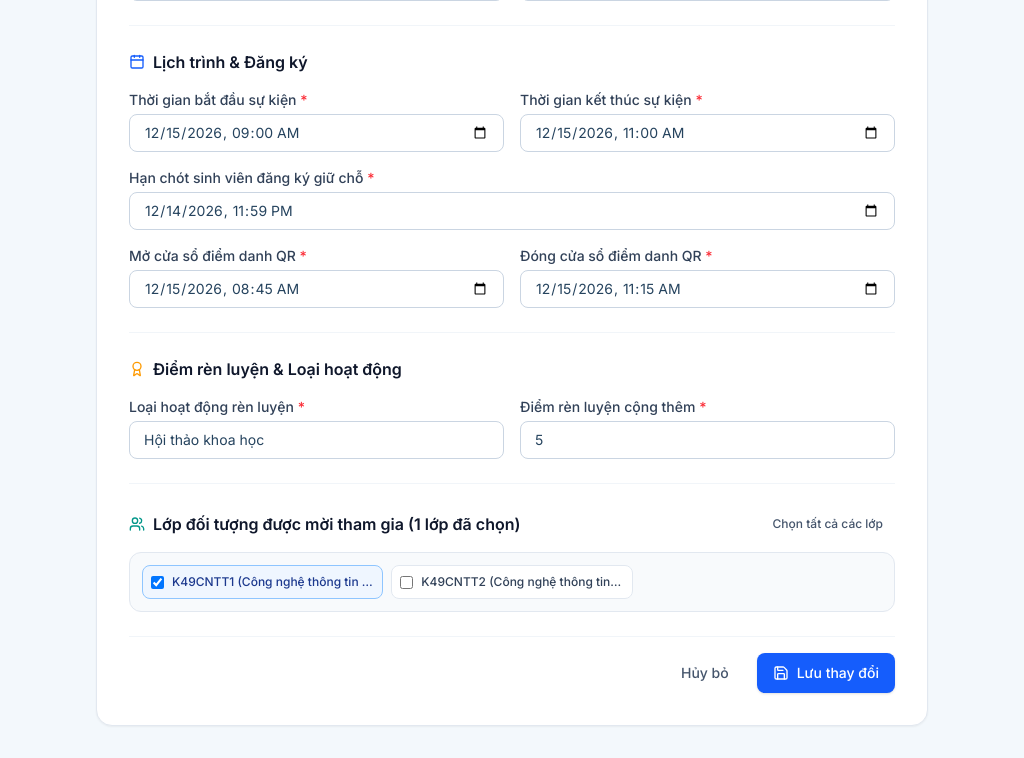
Test: EventFormPage edit flow [QE-65] › asks to reload the page when the event was changed by someone else (VERSION_CONFLICT)
The width and height of the screenshot is (1024, 758).
(page scrolled)
What coordinates should you click on to do the following:
click the button "Lưu thay đổi"
I would click on:
 (826, 673)
Its box is top-left (757, 653), bottom-right (895, 693).
(page scrolled)
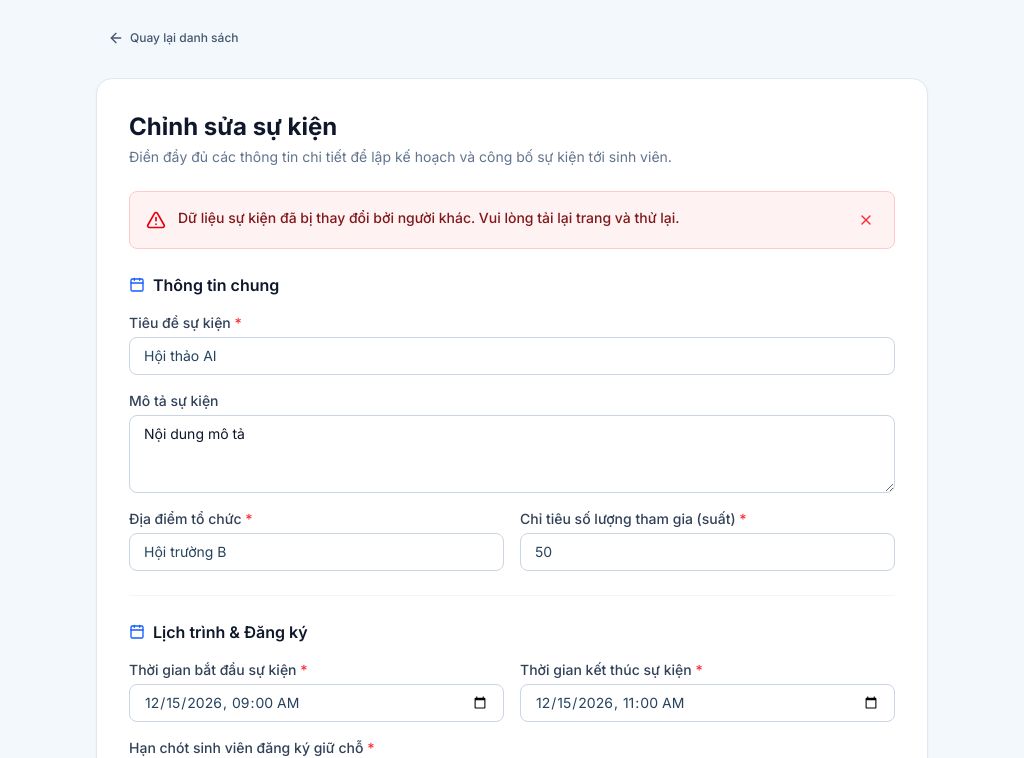
Expected: the message does not show "Phiên bản sự kiện không khớp.", top-left (129, 191), bottom-right (895, 249)
Expected: the message shows "Dữ liệu sự kiện đã bị thay đổi bởi người khác. Vui lòng tải lại trang và thử lại.", top-left (178, 209), bottom-right (680, 226)
